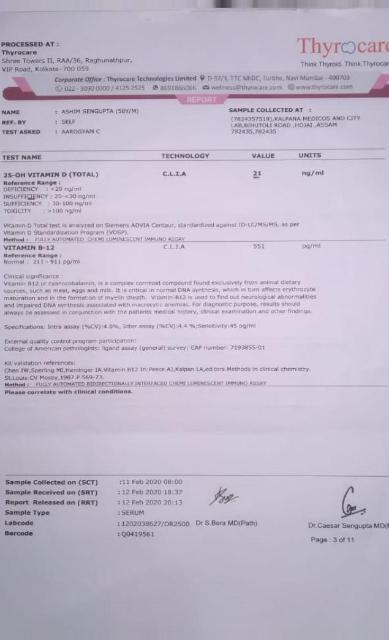Clinical_Conditions: (2, 273, 324, 320)
Name: (60, 107, 141, 116)
Ref_By: (60, 118, 79, 127)
Technology: (157, 166, 193, 183), (162, 243, 193, 254)
Test_Asked: (59, 129, 102, 135)
Test_Name: (3, 170, 104, 218), (2, 244, 85, 270)
Unit: (298, 241, 329, 257), (297, 166, 329, 180)
Value: (250, 240, 276, 257), (247, 166, 270, 185)
